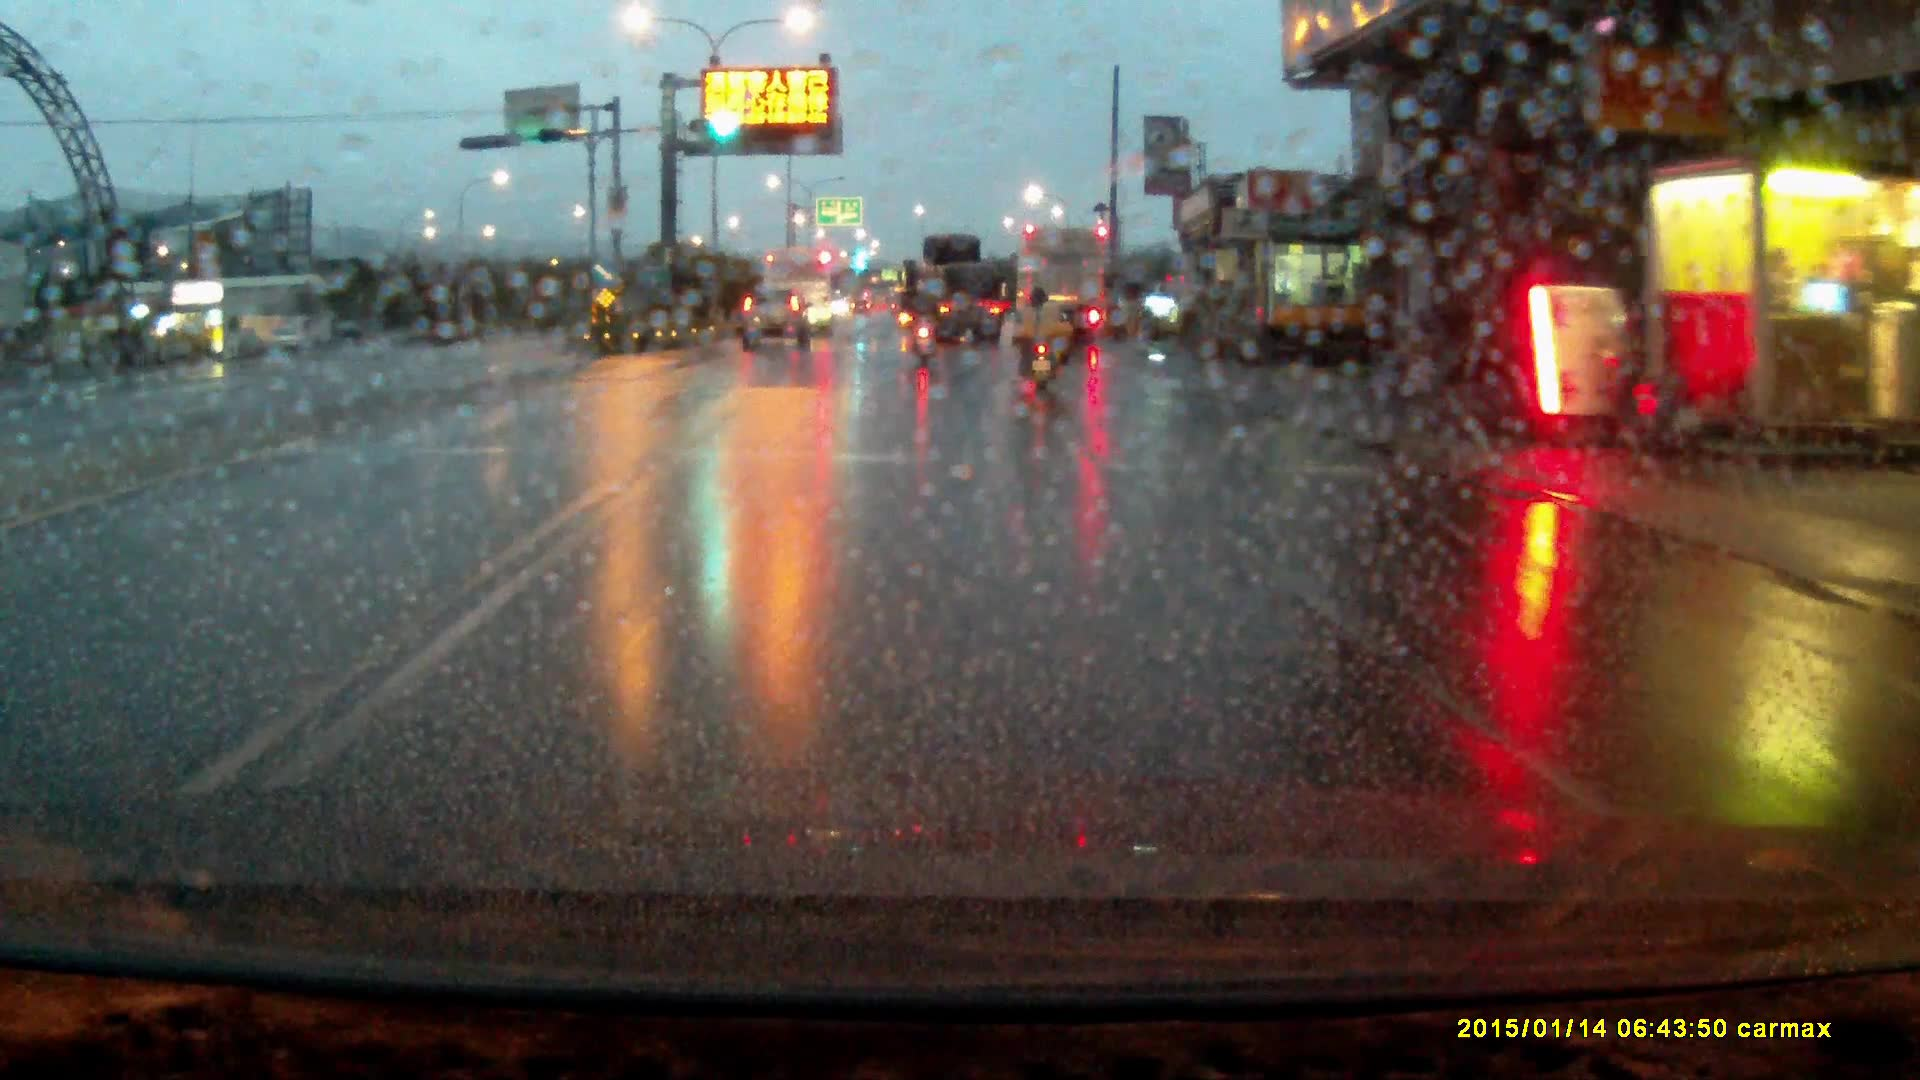rider: (1018, 287, 1065, 401), (904, 281, 940, 367)
vehicle: (1019, 223, 1113, 342), (909, 234, 1003, 347), (761, 246, 834, 336), (740, 286, 812, 351)
